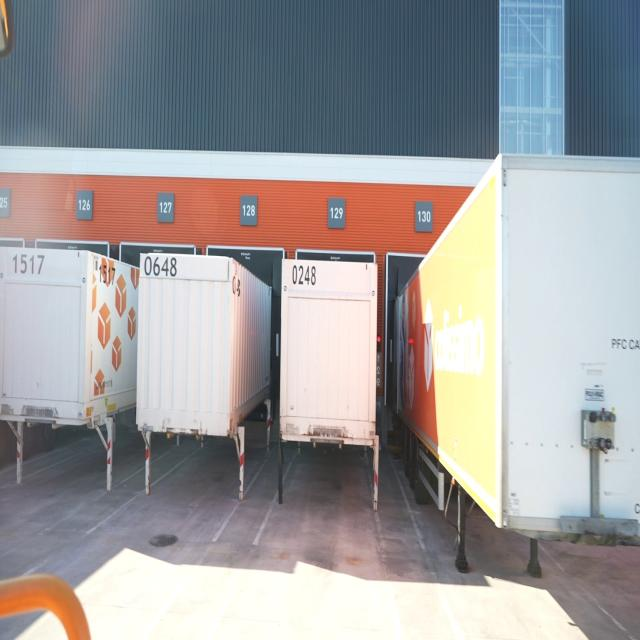Code: (143, 244, 180, 282), (9, 248, 48, 279), (290, 261, 317, 291), (94, 261, 121, 288)
